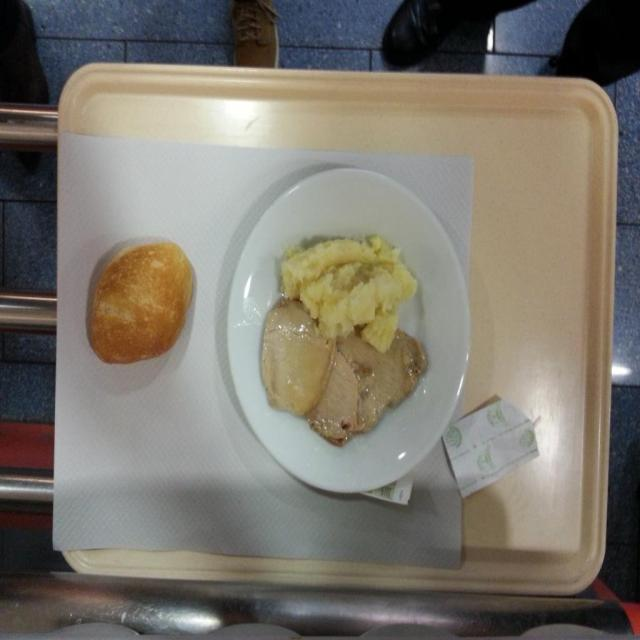plate: (226, 166, 473, 503), (86, 237, 196, 366)
